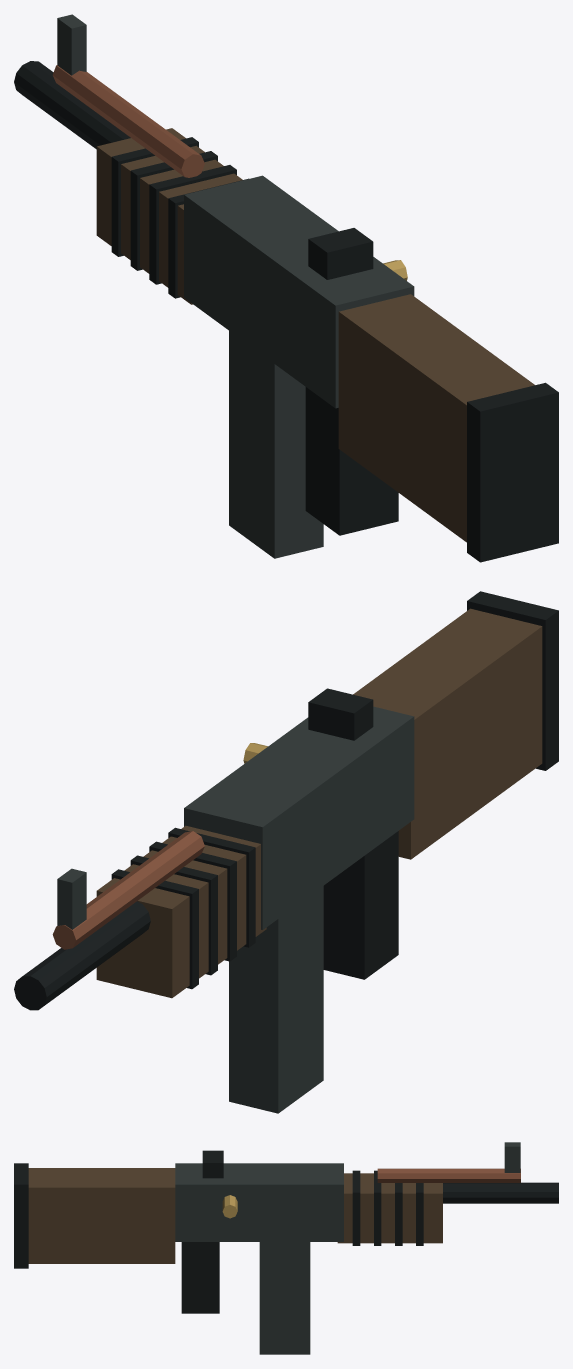
Rendered from service_rifle.glb.
The picture shows the model from 3 angles, top to bottom: view 1: azimuth 30°, elevation 25°; view 2: azimuth 150°, elevation 25°; view 3: azimuth 270°, elevation 25°; orthographic projection. The views are drawn at different scales.
Parts seen in each view (by area): view 1: stock, receiver.001, magazine, stock_pad, grip, handguard, gas_tube, barrel.001, rear_sight.002, handguard_band.001, front_sight.001, handguard_band.002 (+2 smaller); view 2: stock, receiver.001, magazine, handguard, grip, barrel.001, gas_tube, stock_pad, rear_sight.002, front_sight.001, handguard_band, handguard_band.003 (+2 smaller); view 3: stock, receiver.001, magazine, handguard, grip, barrel.001, gas_tube, stock_pad, handguard_band, rear_sight.002, handguard_band.001, front_sight.001 (+3 smaller).
Boxes of the visible parts, x1,y1,x2,y2 form: stock: (338,294,534,542); receiver.001: (184,175,414,408); magazine: (229,331,323,558); stock_pad: (467,382,558,562); grip: (305,387,398,535); handguard: (96,128,242,304); gas_tube: (52,65,204,177); barrel.001: (14,61,130,149); rear_sight.002: (308,228,373,279); handguard_band.001: (149,165,236,284); front_sight.001: (57,14,86,75); handguard_band.002: (130,151,217,270); stock: (353,608,542,859); receiver.001: (184,706,414,929); magazine: (229,886,323,1113); handguard: (96,825,266,998); grip: (323,831,398,979); barrel.001: (14,901,150,1010); gas_tube: (52,831,204,949); stock_pad: (467,591,558,770); rear_sight.002: (308,688,373,740); front_sight.001: (57,868,86,929); handguard_band: (168,827,255,947); handguard_band.003: (111,869,198,989); stock: (28,1168,175,1263); receiver.001: (175,1163,343,1241); magazine: (259,1242,310,1354); handguard: (337,1173,442,1243); grip: (181,1242,219,1313); barrel.001: (443,1182,558,1203); gas_tube: (377,1168,520,1182); stock_pad: (14,1163,28,1268); handguard_band: (352,1170,360,1245); rear_sight.002: (202,1150,223,1178); handguard_band.001: (374,1170,381,1245); front_sight.001: (504,1142,520,1172).
Bounding box in the file's own units: 0.1765 × 0.532 × 1.29.
